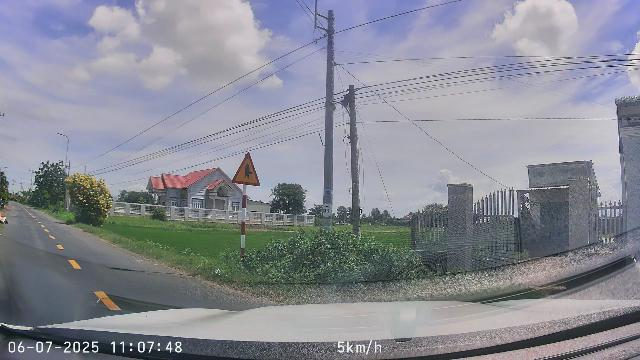207-giao-nhau-voi-duong-khong-uu-tien: (232, 152, 261, 185)
